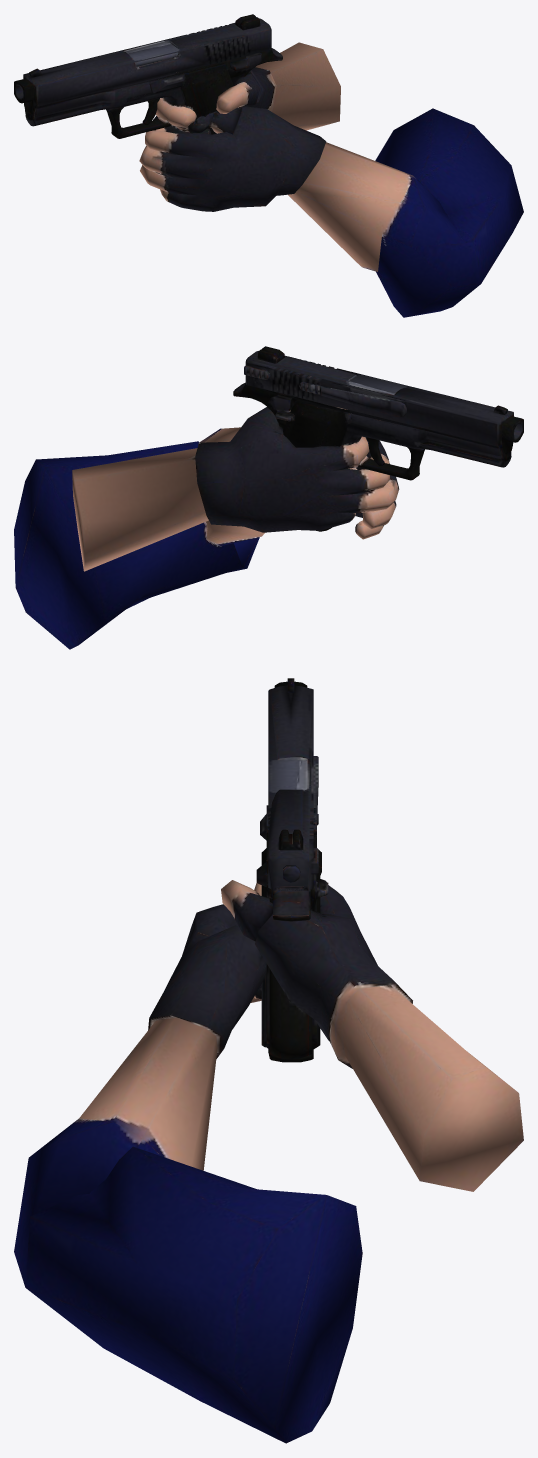
File: police+handgun.glb
3 views of the same model, one above another, from view 1: azimuth 30°, elevation 25°; view 2: azimuth 150°, elevation 25°; view 3: azimuth 270°, elevation 25° (orthographic). The views are drawn at different scales.
Visible parts, largest first — view 1: Model; view 2: Model; view 3: Model.
Part boxes in pixels (box(x1,y1,x2,y2)): Model: box(14, 14, 523, 317); Model: box(14, 346, 523, 649); Model: box(14, 678, 523, 1443).
Size of the model in its own units: 0.998 by 0.6191 by 0.6113.
1 material, 1 textured.
